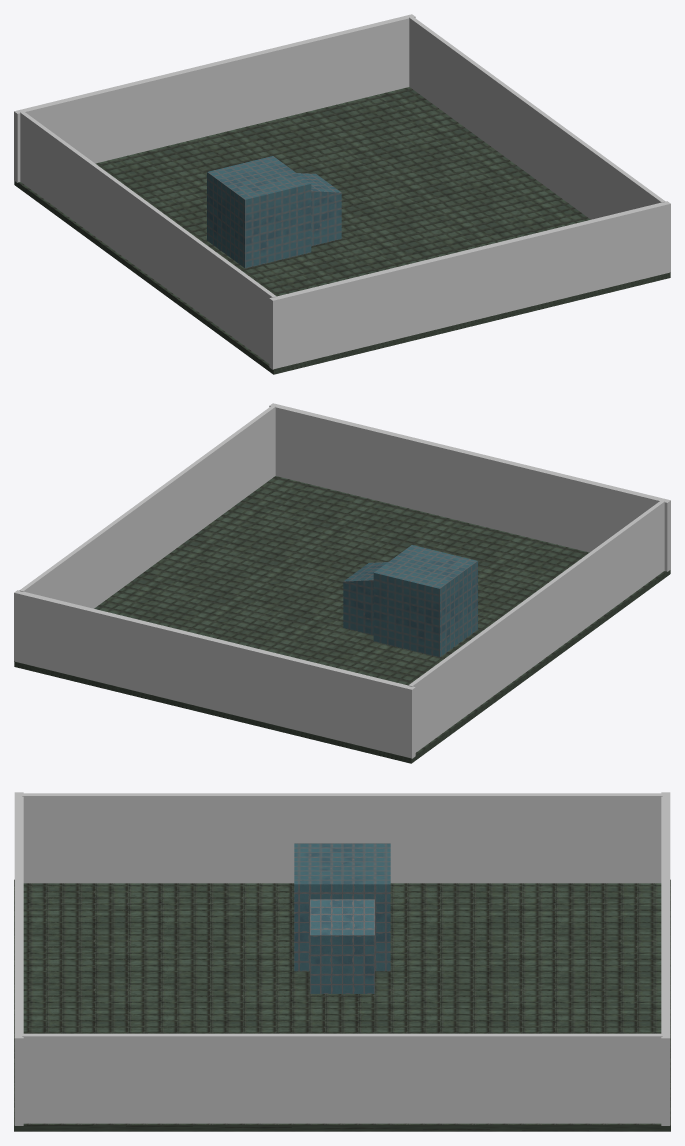
The model's file is testArena1.fbx.
3 renders of one model, top to bottom at view 1: azimuth 30°, elevation 25°; view 2: azimuth 150°, elevation 25°; view 3: azimuth 270°, elevation 25°, orthographic. The views are drawn at different scales.
Visible parts, largest first — view 1: Cube; view 2: Cube; view 3: Cube.
Boxes of the visible parts, left/top/right/bottom form: Cube: left=14, top=14, right=670, bottom=374; Cube: left=14, top=403, right=670, bottom=763; Cube: left=14, top=792, right=670, bottom=1131.
Size of the model in its own units: 29706 by 5308 by 33526.
